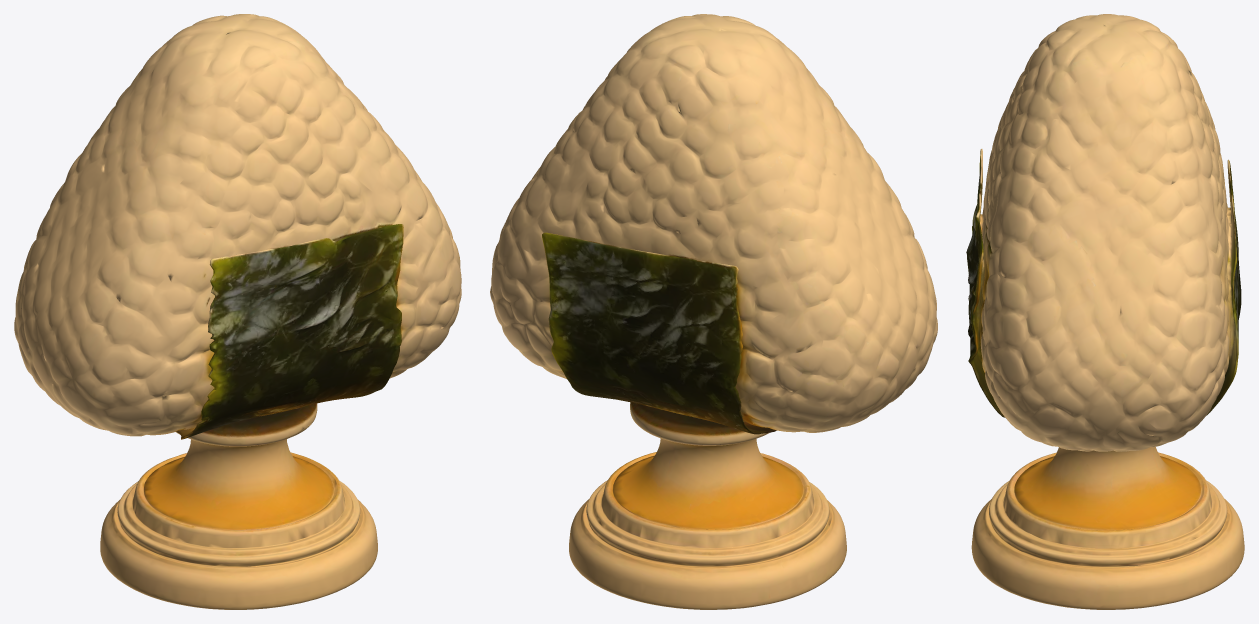
File: onigiri-gold-trophy.glb
3 renders of one model, left to right at view 1: azimuth 30°, elevation 25°; view 2: azimuth 150°, elevation 25°; view 3: azimuth 270°, elevation 25°, orthographic.
Visible parts, largest first — view 1: node_0; view 2: node_0; view 3: node_0.
Part boxes in pixels (left/top/right/bottom): node_0: left=14, top=14, right=461, bottom=609; node_0: left=490, top=14, right=937, bottom=609; node_0: left=966, top=14, right=1244, bottom=609.
Size of the model in its own units: 0.8566 by 1.08 by 0.5213.
Materials: 1 (1 with a texture image).
